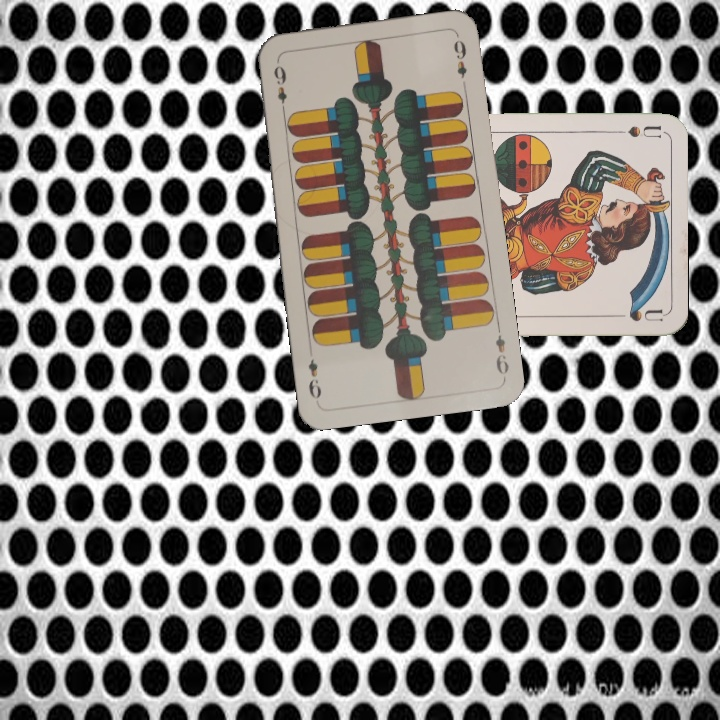E9: (270, 57, 289, 116), (491, 321, 511, 377)
SU: (602, 121, 661, 140)
